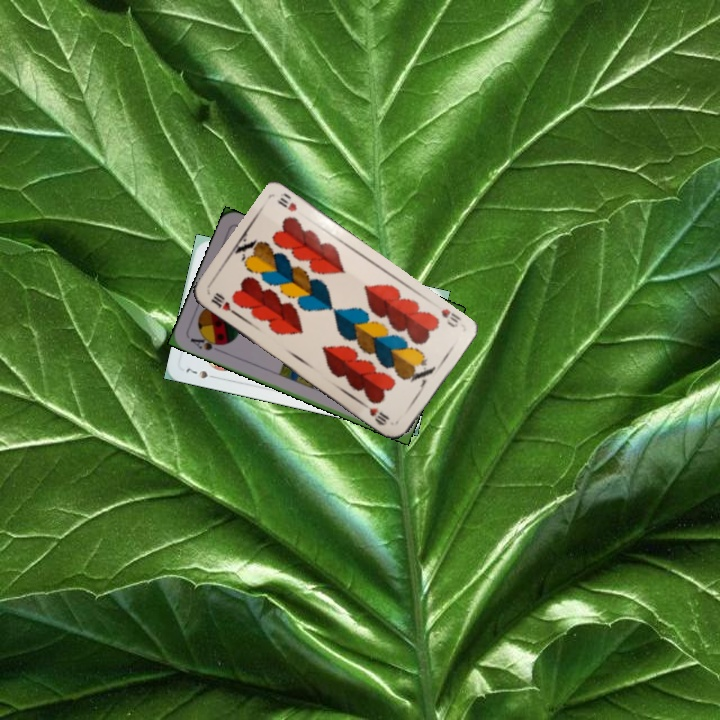H10: (207, 289, 241, 318), (437, 304, 463, 330)
S7: (182, 364, 210, 381)
SA: (186, 331, 227, 353)
